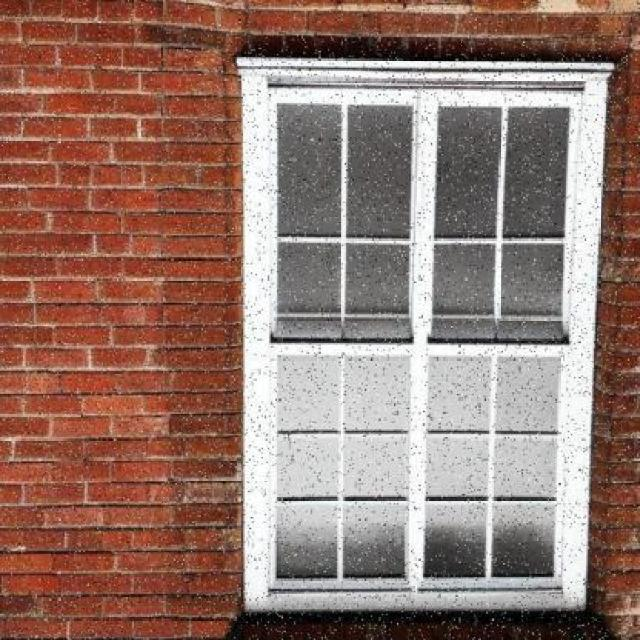window: (242, 70, 590, 612)
